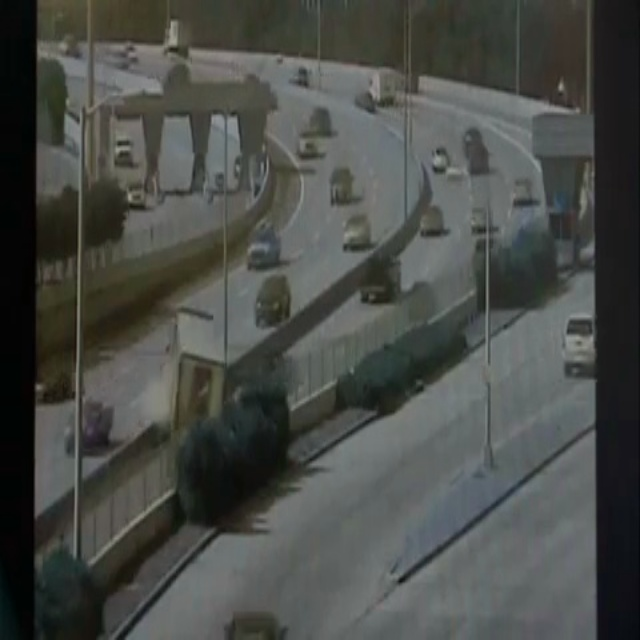acc: (140, 303, 220, 436)
